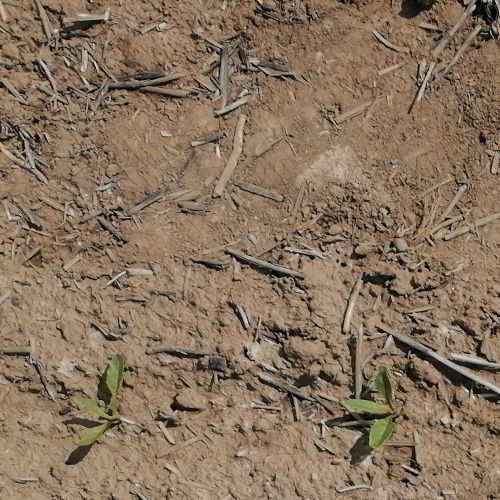beet: (75, 353, 127, 445), (347, 368, 399, 448)
